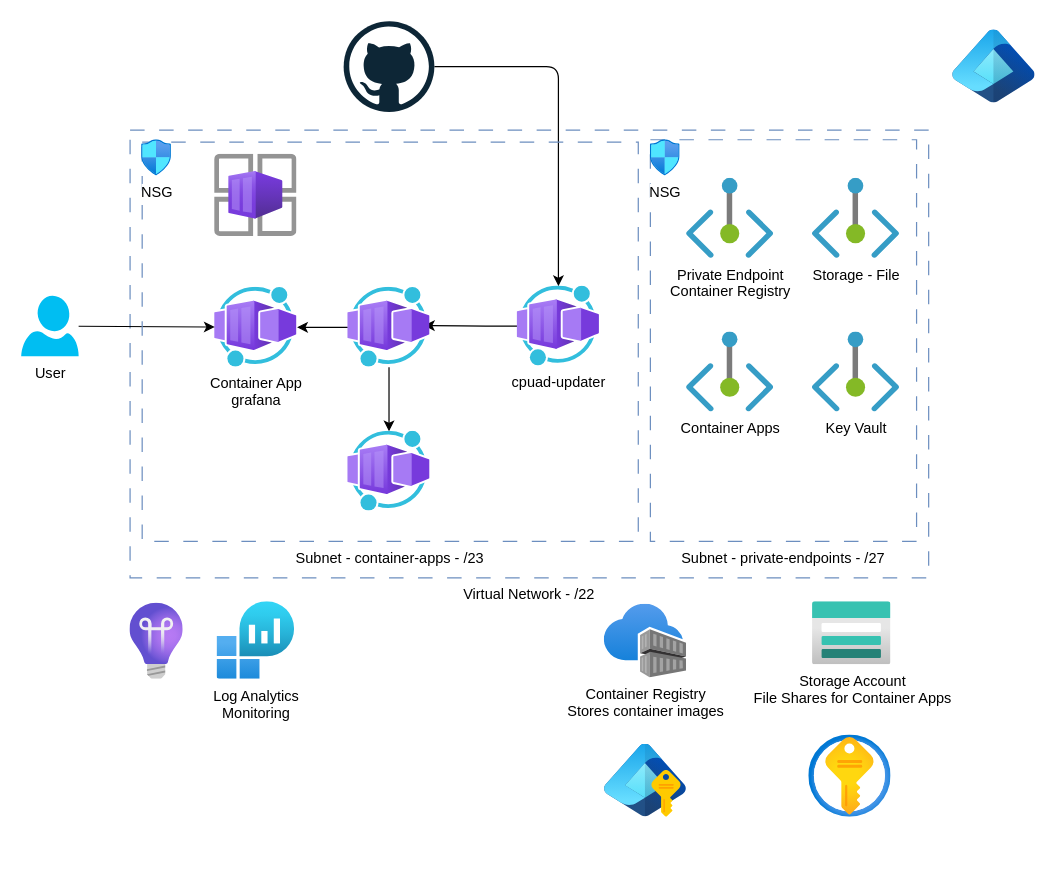
Image size: 1055x882. Some labels were removed from this diagram. The shapes that lost their labels are listed below. From the top down, each one's centre as x and y in pixels, then its label:
the point at 388,66: GitHub
the point at 993,65: Entra ID SSO
the point at 255,195: Container Apps Environment
the point at 388,327: elastic-search
the point at 388,471: update-grafana
the point at 156,641: App Insights Monitoring
the point at 645,780: Managed Identity Infrastructure access
the point at 849,775: Key Vault Stores secrets
